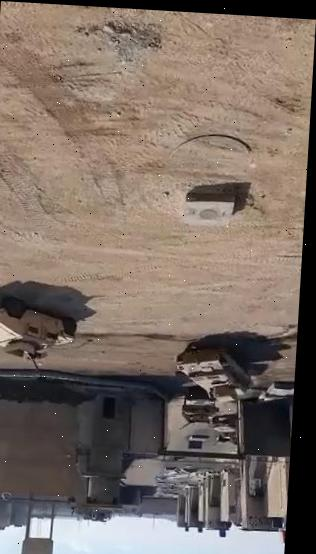armored_car: (0, 295, 78, 365), (180, 388, 218, 425), (210, 414, 238, 443)
tank: (172, 338, 254, 401)
